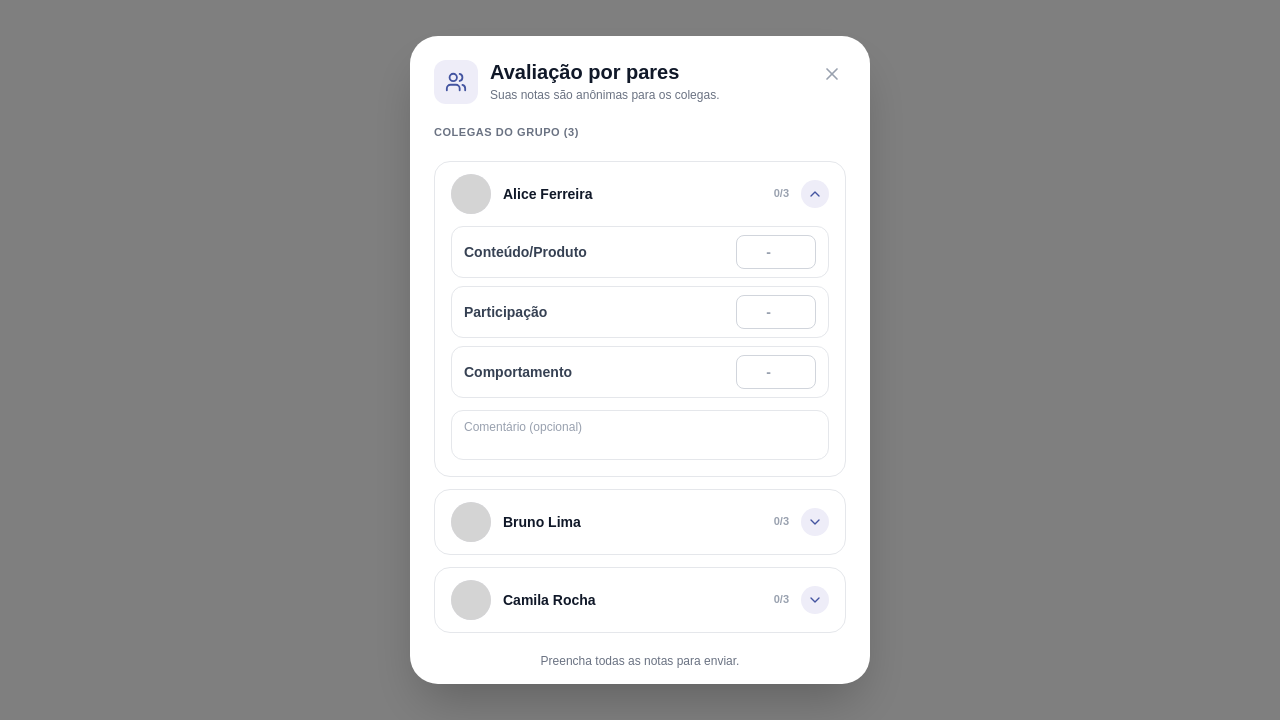
Test: [US14] PeerEvaluationModal › Deve fechar o card aberto ao abrir outro e recolher o card ao tocar nele de novo
The image size is (1280, 720).
Click the button "Bruno Lima 0/3" at (471, 522), box [435,490,845,554]
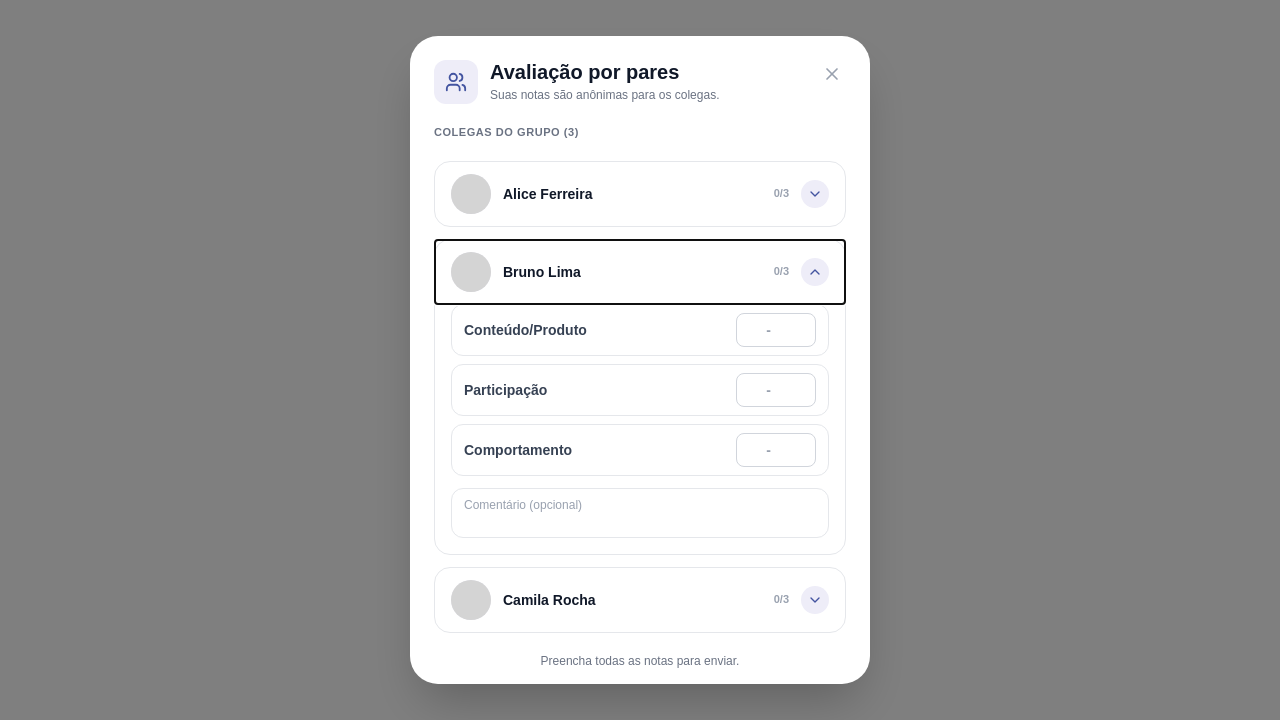
Now the button "Bruno Lima 0/3" is expanded
Now the button "Alice Ferreira 0/3" is collapsed, box [435,162,845,226]
Click the button "Bruno Lima 0/3" at (471, 272), box [435,240,845,304]
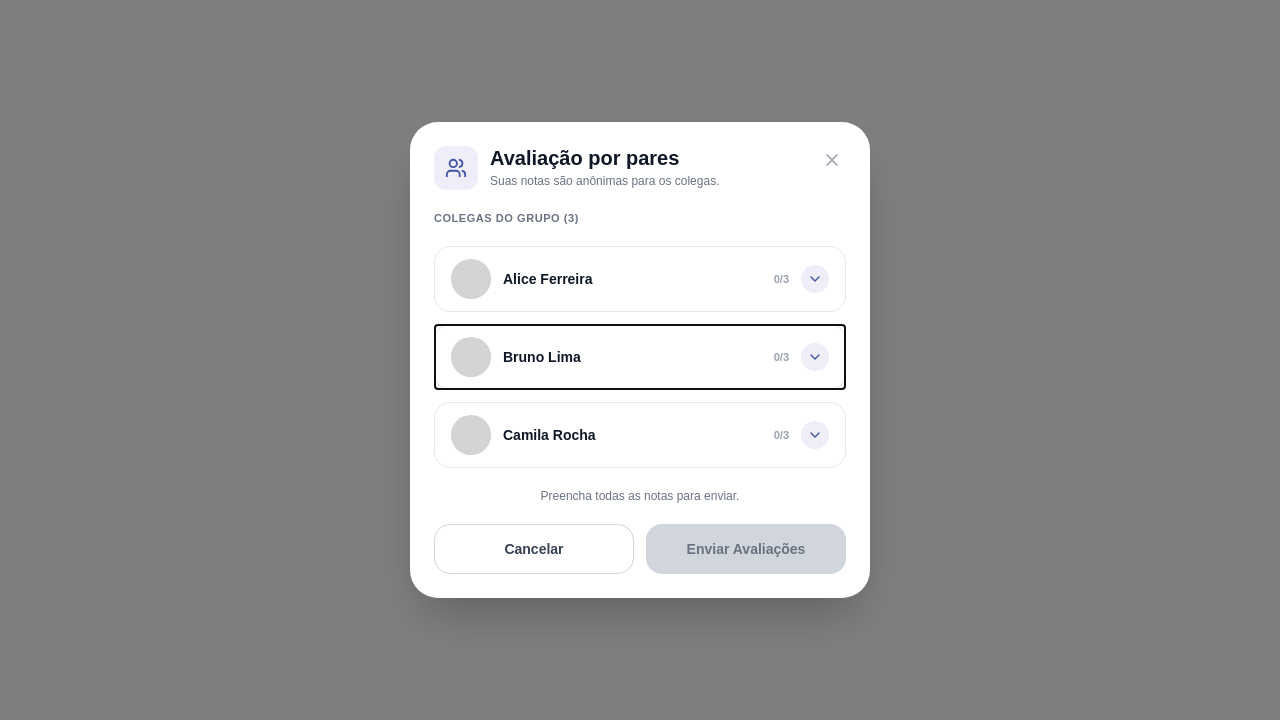
Now the button "Bruno Lima 0/3" is collapsed, box [435,325,845,389]
Now the label labelled "Conteúdo/Produto" is gone
